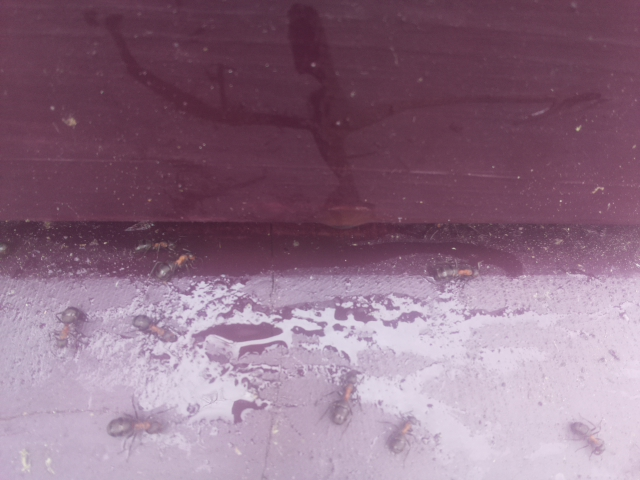ant: (564, 408, 612, 464), (324, 368, 367, 430), (99, 409, 170, 441), (123, 310, 180, 346), (384, 410, 420, 460), (152, 249, 200, 285), (50, 303, 84, 351), (425, 260, 482, 283)
